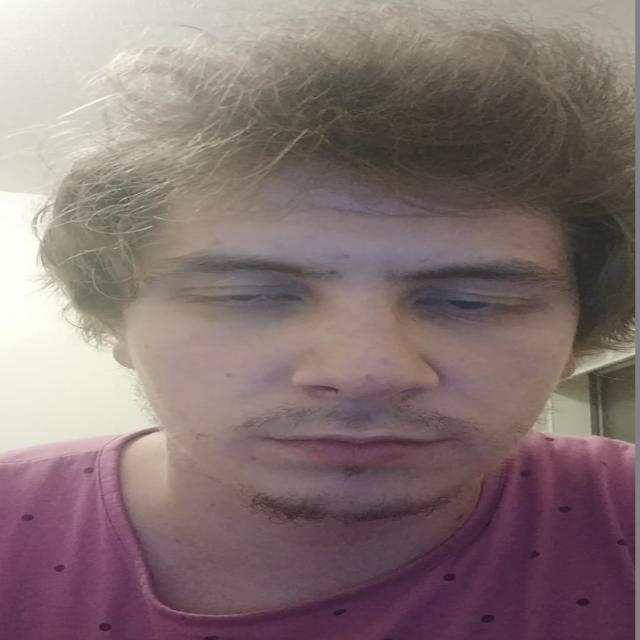Eyeclosed: (418, 288, 532, 323), (186, 282, 302, 314)
